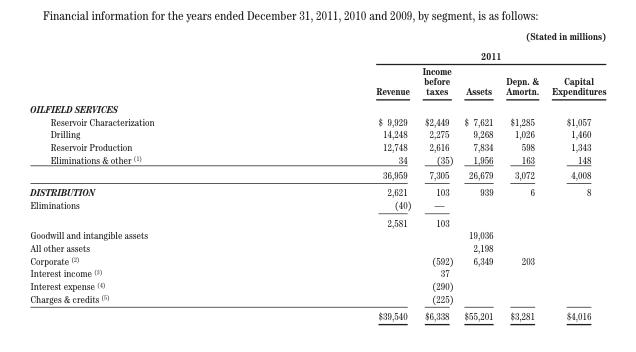table: (29, 29, 605, 321)
table column: (29, 29, 264, 321), (264, 29, 416, 321), (544, 29, 605, 321), (498, 29, 544, 321), (416, 29, 458, 321), (458, 29, 498, 321)
table column header: (29, 29, 605, 99)
table projected row header: (29, 99, 605, 114)
table row: (29, 63, 605, 99), (29, 45, 605, 63), (29, 166, 605, 183), (29, 29, 605, 45), (29, 99, 605, 114), (29, 183, 605, 198), (29, 198, 605, 213), (29, 213, 605, 228), (29, 291, 605, 306), (29, 306, 605, 321), (29, 152, 605, 166), (29, 114, 605, 127), (29, 127, 605, 140), (29, 228, 605, 241), (29, 253, 605, 266), (29, 266, 605, 279), (29, 140, 605, 152), (29, 241, 605, 253), (29, 279, 605, 291)
table spanning cell: (264, 45, 605, 63), (498, 29, 605, 45)
